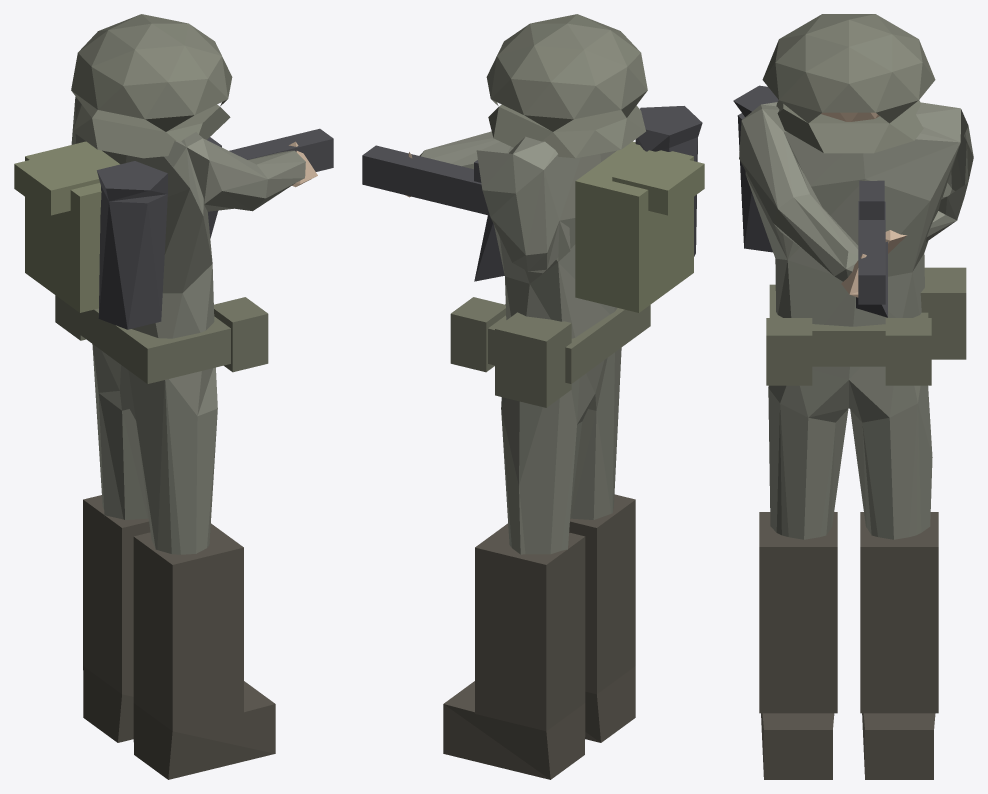
The model's file is trooper_germany.lod2.glb.
The picture shows the model from 3 angles, left to right: view 1: azimuth 30°, elevation 25°; view 2: azimuth 150°, elevation 25°; view 3: azimuth 270°, elevation 25°; orthographic projection.
Size of the model in its own units: 0.77 by 1.73 by 0.5236.
